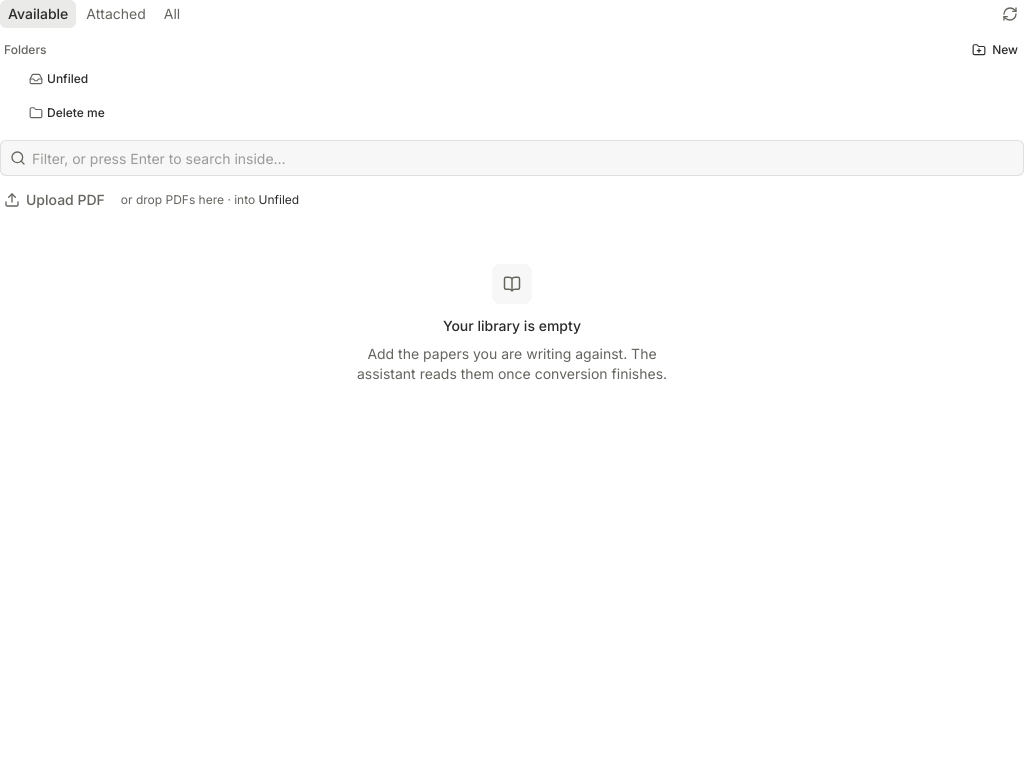
LibraryPanel › warns when permanent folder deletion leaves storage cleanup pending
Click the list item "Delete me". click: (67, 112)
box: left=29, top=105, right=105, bottom=120
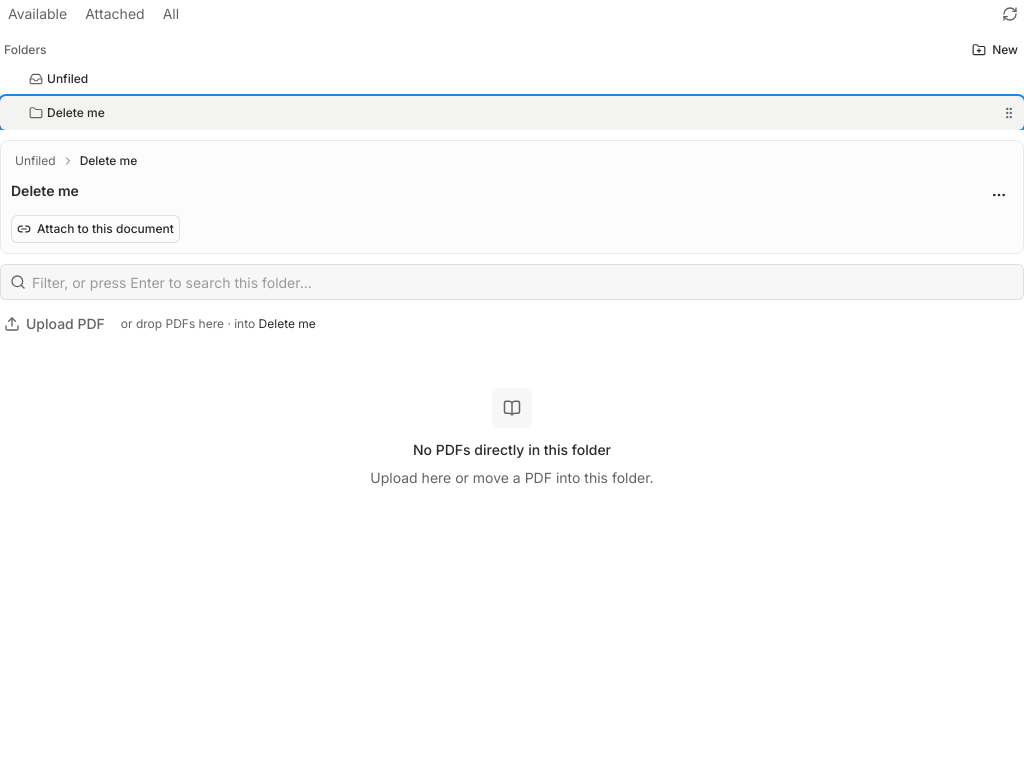
Press the mouse on the button named "Actions for Delete me" at (999, 195), box left=985, top=181, right=1013, bottom=209
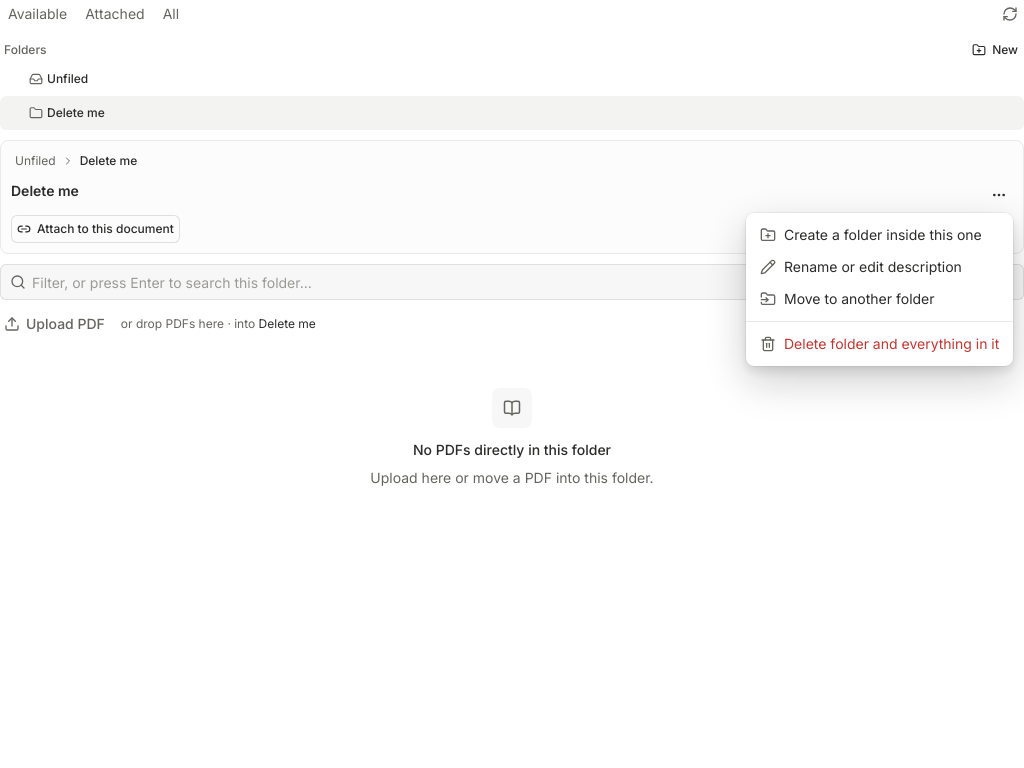
Click the menu item "Delete folder and everything in it". click: (880, 344)
box: left=760, top=335, right=999, bottom=352
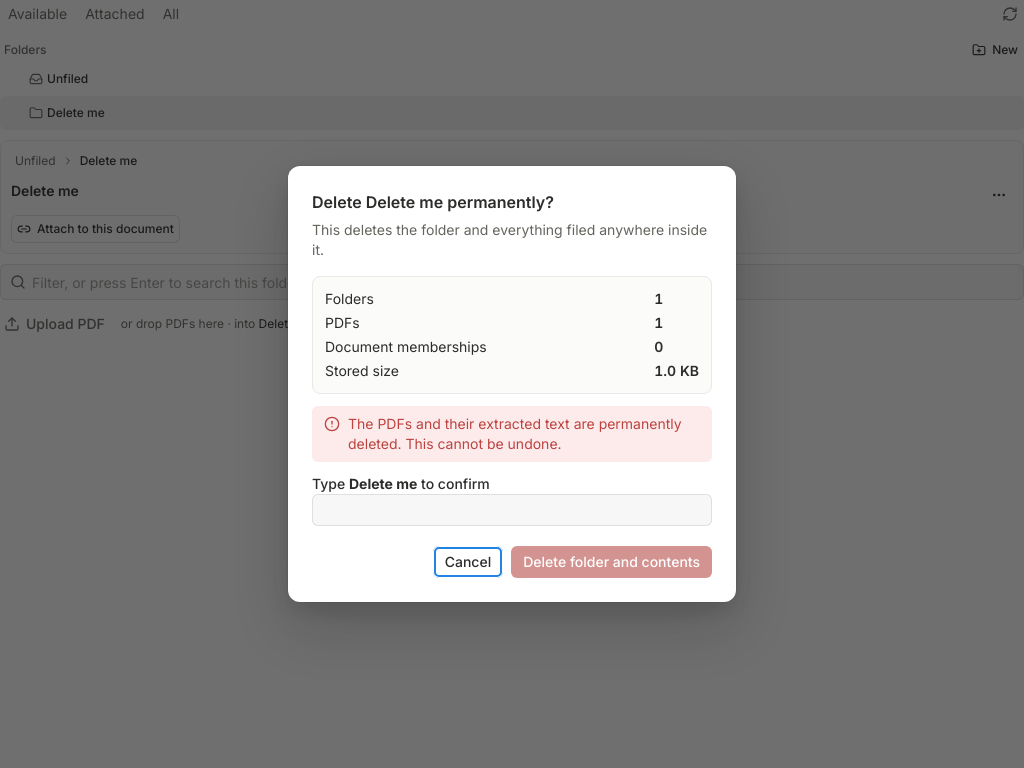
Type "Delete me" into the field named "Type Delete me to confirm deletion". click: (512, 510)
box: left=312, top=494, right=712, bottom=526
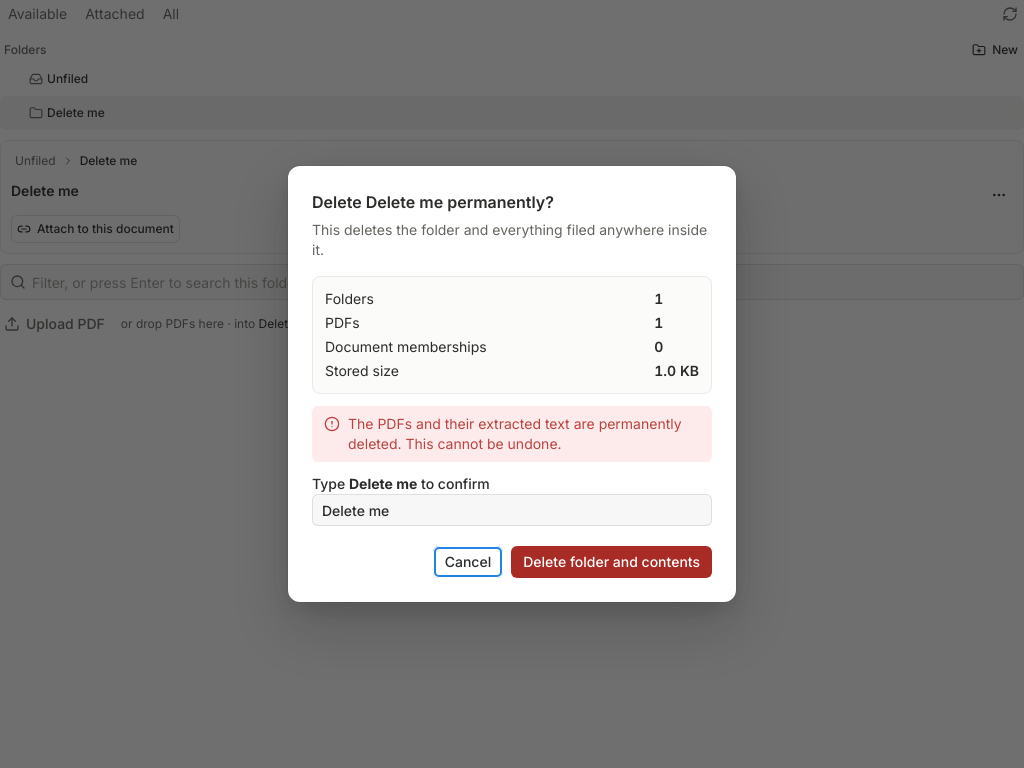
Click the button "Delete folder and contents". click: (612, 562)
box: left=511, top=546, right=712, bottom=578
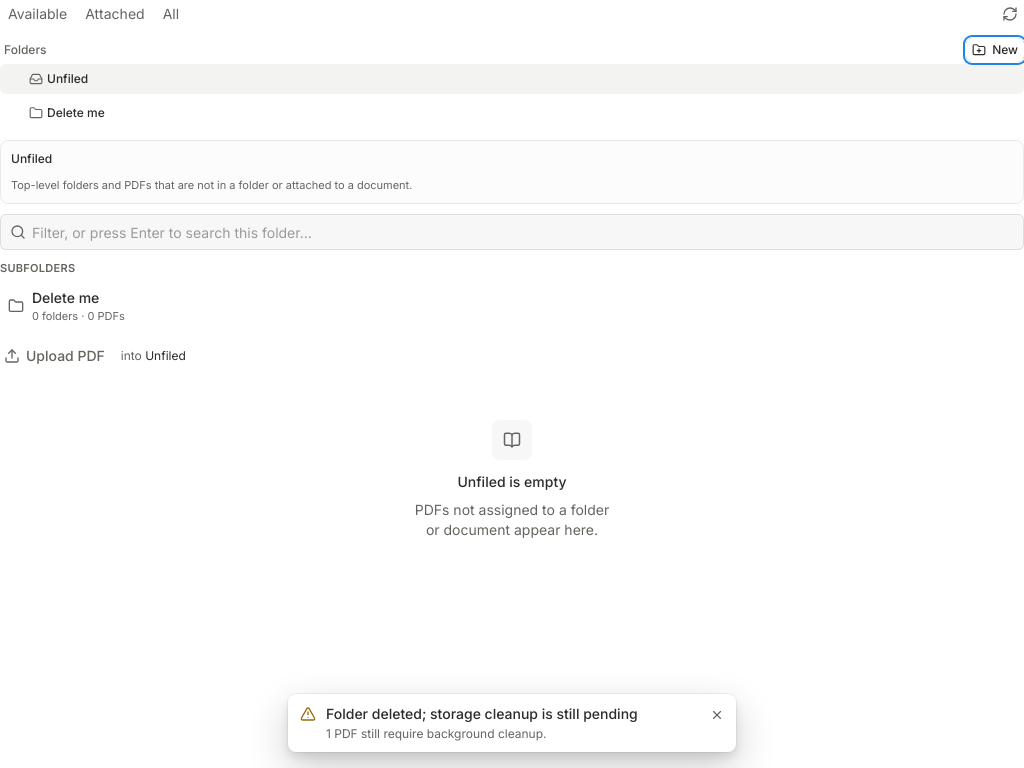
expect the text "Folder deleted; storage cleanup is still pending" is shown: met, box left=326, top=705, right=638, bottom=722
